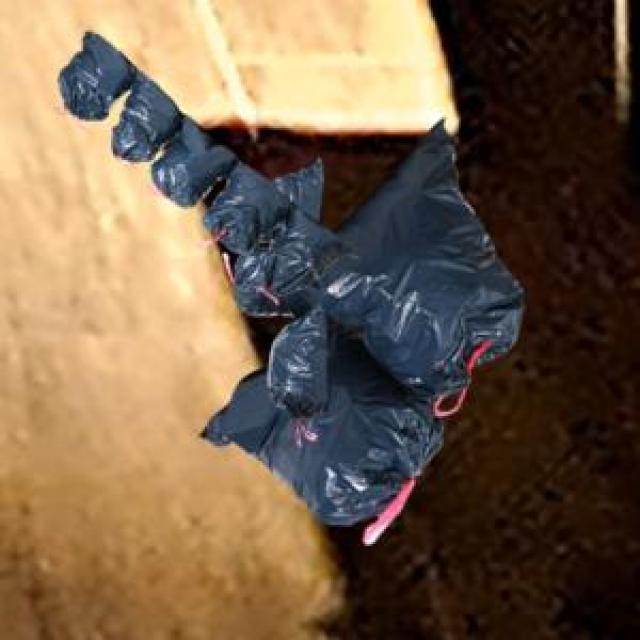Trashbag: (336, 131, 538, 375), (202, 340, 430, 526), (234, 233, 327, 323), (214, 175, 278, 242), (111, 84, 172, 152), (63, 42, 121, 109), (165, 138, 223, 196)
